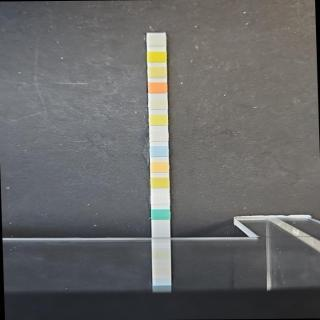mark: (151, 208, 170, 220), (151, 192, 169, 204), (150, 176, 168, 188), (150, 130, 168, 142), (148, 82, 166, 94), (148, 66, 166, 78), (148, 51, 166, 63), (151, 160, 168, 172), (150, 98, 167, 110), (148, 36, 166, 46), (150, 114, 166, 125), (151, 146, 168, 156)
